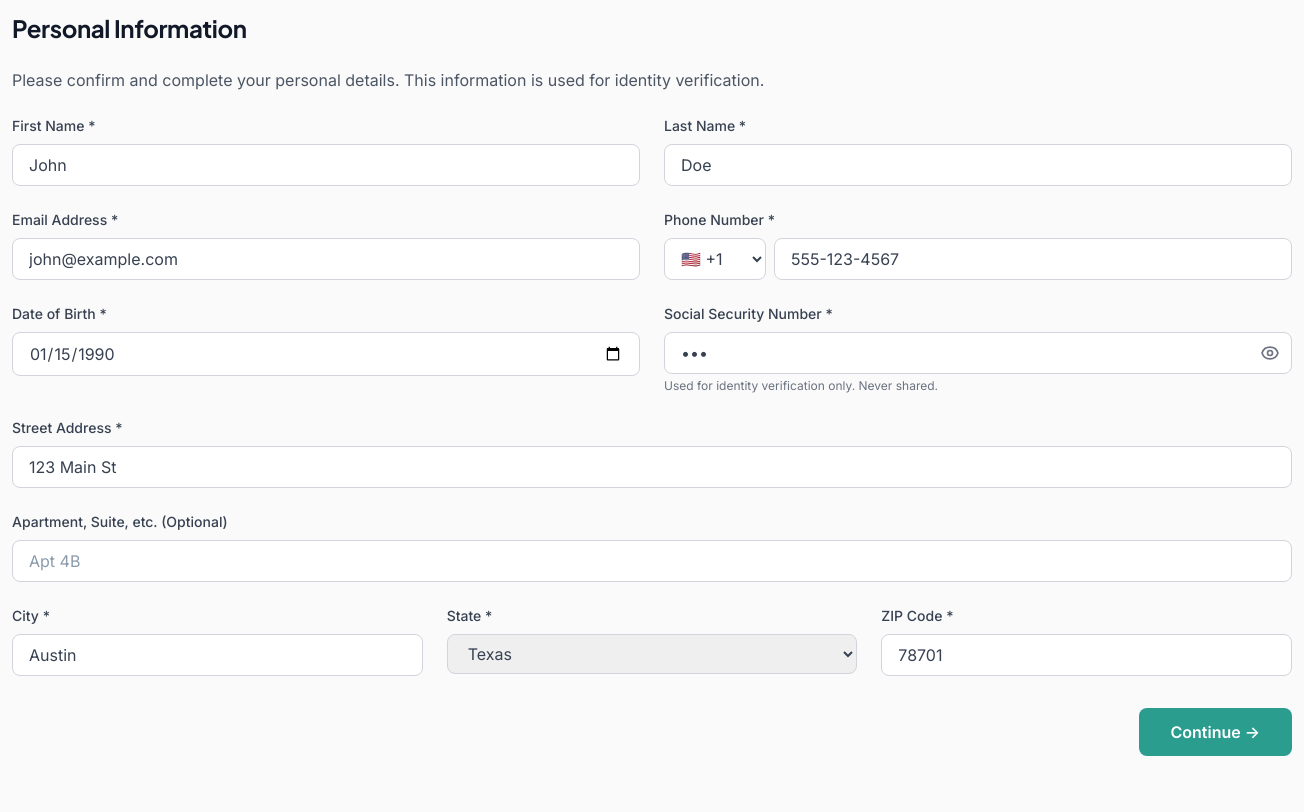
PersonalInfoStep › validation › shows error for invalid SSN length
The image size is (1304, 812).
Step 1. Click the button "Continue →" → (1215, 732), box [1138,708,1292,756]
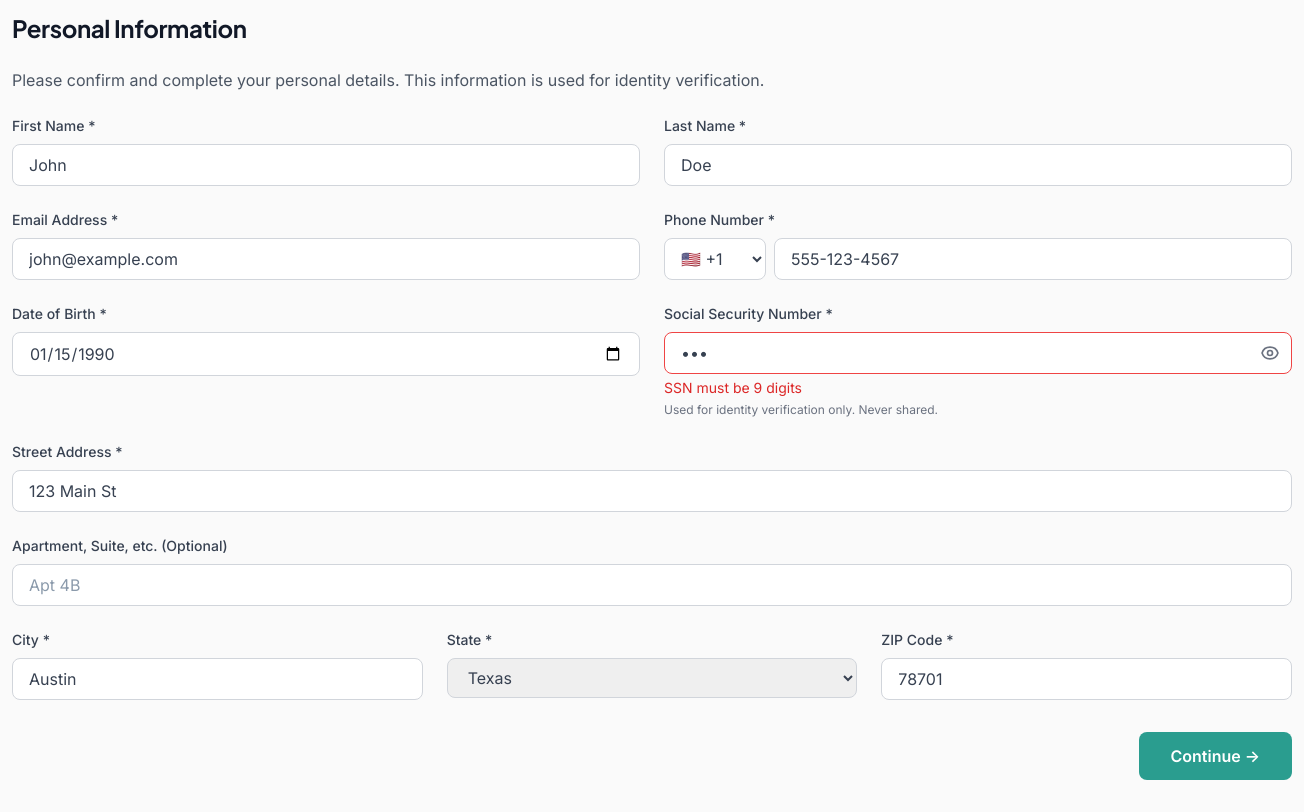
Result: the text "SSN must be 9 digits" is shown at [664,379,802,396]
